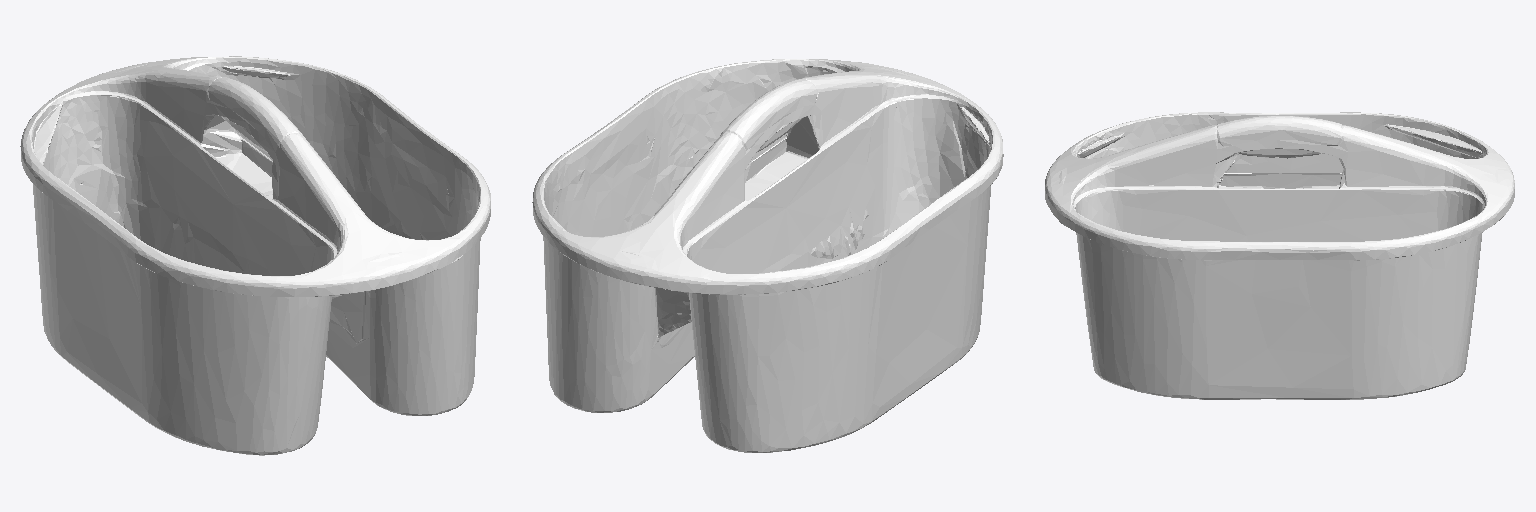
URDF robot description (model):
<?xml version="1.0" ?>
    <robot name="model">
    <link name="base">
        <inertial>
            <origin rpy="0 0 0" xyz="0 0 0"/>
            <mass value="1.0"/>
            <inertia ixx="1" ixy="0" ixz="0" iyy="1" iyz="0" izz="1"/>
        </inertial>
    <visual>
        <origin rpy="0 0 0" xyz="0 0 0"/>
        <geometry>
        <mesh filename="./meshes/model.obj" scale="1 1 1"/>
        </geometry>
        <material name="white">
        <color rgba="1 1 1 1"/>
        </material>
    </visual>
    <collision>
        <origin rpy="0 0 0" xyz="0 0 0"/>
        <geometry>
        <mesh filename="./meshes/model_vhacd.obj" scale="1 1 1"/>
        </geometry>
    </collision>
    </link>
    <link name="grasp">
        <inertial>
        <origin rpy="0 0 0" xyz="0 0 0"/>
        <mass value="0.0"/>
        <inertia ixx="1" ixy="0" ixz="0" iyy="1" iyz="0" izz="1"/>
        </inertial>
    </link>
    <joint name="base__grasp" type="fixed">
        <origin xyz="0.0 0.0 0.1" rpy="0.0 0.0 0.0"/>
        <parent link="base"/>
        <child link="grasp"/>
    </joint>
    </robot>

--- What the picture shows (computed from the rendered views, not written in the file) ---
The picture shows the robot from 3 angles, left to right: view 1: azimuth 30°, elevation 25°; view 2: azimuth 150°, elevation 25°; view 3: azimuth 270°, elevation 25°; orthographic projection.
Model model with 2 links and 1 joints (1 fixed), rooted at base, posed every joint at zero.
Visible links, largest first — view 1: base; view 2: base; view 3: base.
Link boxes in pixels (x1,y1,x2,y2): base: [20, 56, 490, 455]; base: [532, 59, 1003, 452]; base: [1045, 112, 1514, 399].
Bounding box of the posed robot: 0.221 × 0.3126 × 0.1641 m (x, y, z).
1 mesh visuals loaded from 1 distinct referenced files (1 OBJ).